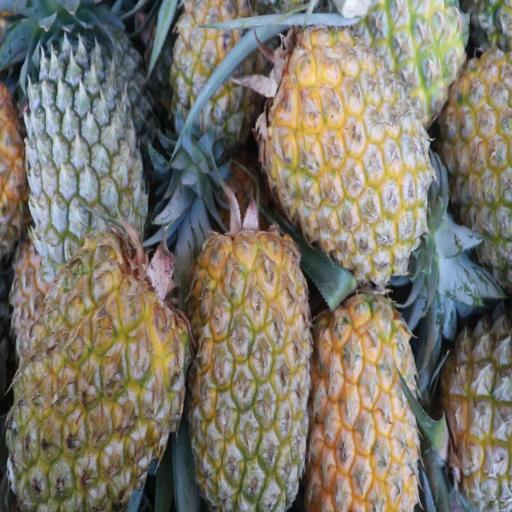------------------------------: (178, 0, 271, 149)
Pineapple - v8 v1: (6, 245, 191, 512), (270, 16, 424, 267), (190, 236, 308, 510), (312, 294, 414, 512), (372, 0, 461, 116)
